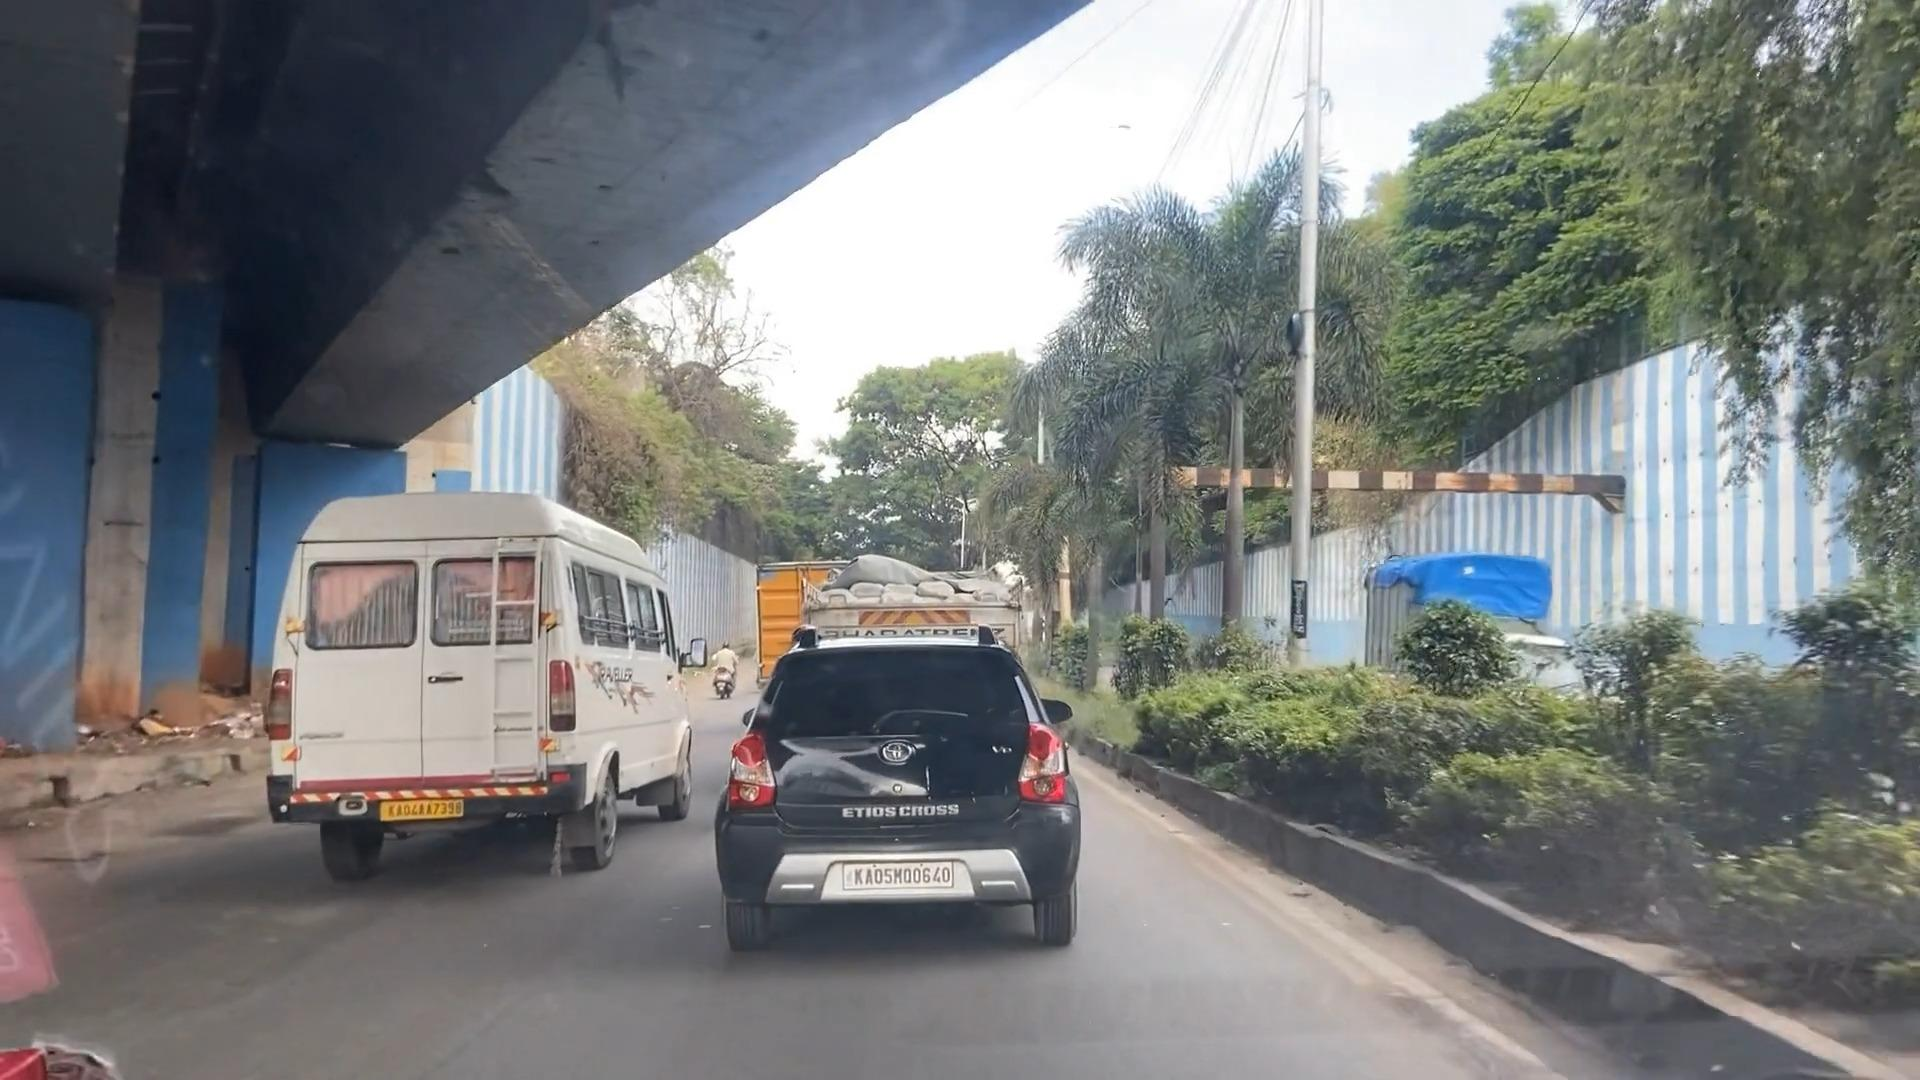HMV: (268, 493, 709, 870)
LMV: (705, 611, 1098, 968)
